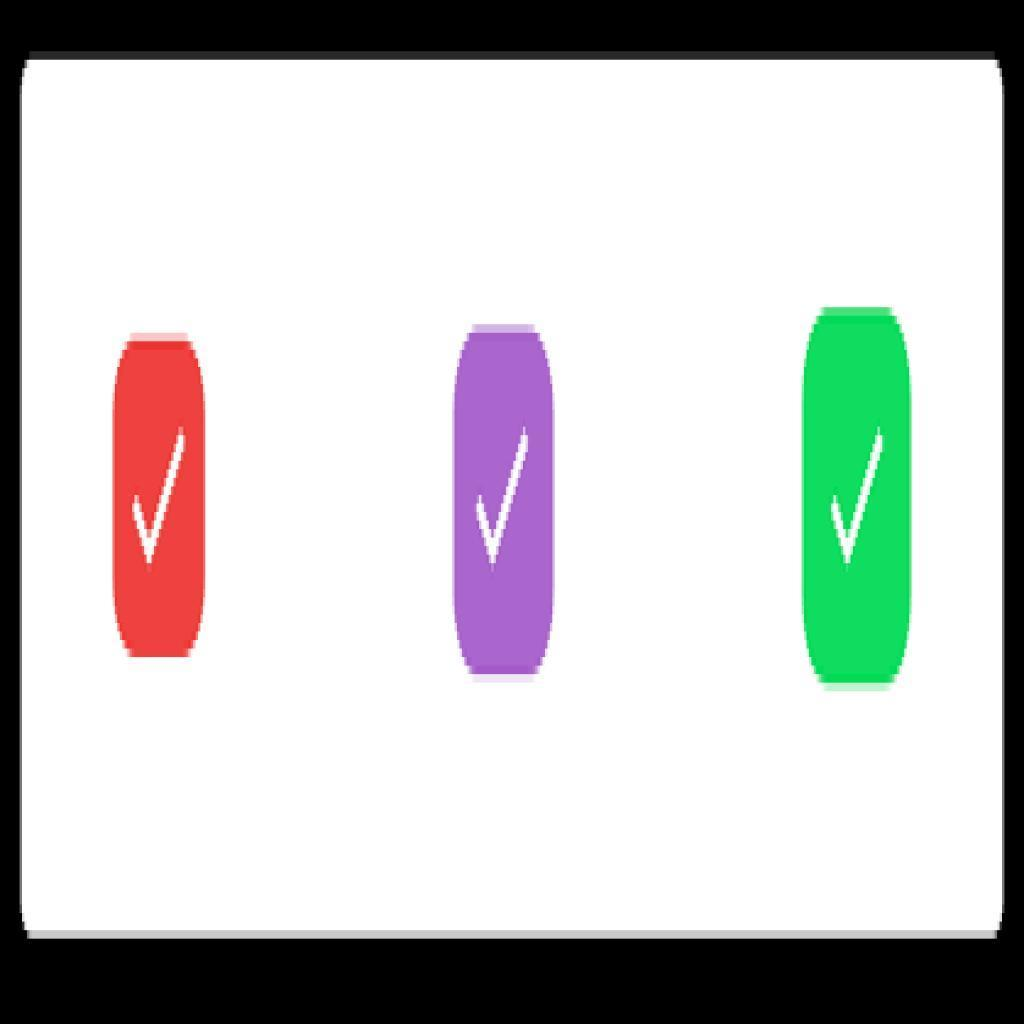checkbox: (800, 306, 914, 683), (453, 326, 558, 676), (112, 335, 209, 664)
